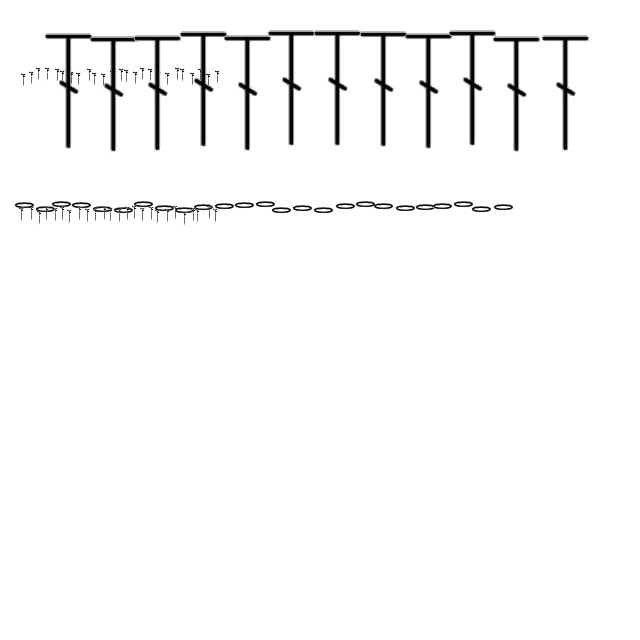chain: (50, 200, 74, 210), (112, 206, 136, 216), (132, 200, 156, 210), (254, 200, 278, 210), (270, 206, 294, 216), (312, 206, 336, 216), (334, 202, 358, 212), (354, 200, 378, 210), (372, 202, 396, 212), (394, 204, 418, 214), (452, 200, 476, 210), (154, 204, 176, 214), (174, 206, 196, 216), (214, 202, 236, 212), (292, 204, 314, 214), (432, 202, 454, 212), (34, 206, 58, 214), (70, 202, 94, 210), (192, 204, 216, 212), (414, 204, 438, 212), (470, 206, 494, 214), (492, 204, 516, 212), (14, 202, 36, 210), (92, 206, 114, 214), (234, 202, 256, 210)
double treble: (43, 29, 95, 153), (88, 32, 140, 156), (132, 31, 184, 155), (178, 27, 230, 151), (222, 31, 274, 155), (266, 26, 318, 150), (312, 26, 364, 150), (358, 27, 410, 151), (403, 29, 455, 153), (447, 26, 499, 150), (491, 32, 543, 156), (540, 31, 592, 155), (44, 206, 50, 222), (60, 206, 66, 222), (102, 206, 108, 222), (36, 67, 42, 81), (60, 70, 66, 84), (76, 72, 82, 86), (92, 72, 98, 86), (110, 70, 116, 84), (124, 69, 130, 83), (140, 67, 146, 81), (148, 68, 154, 82), (156, 71, 162, 85), (180, 68, 186, 82), (190, 72, 196, 86), (198, 68, 204, 82), (206, 73, 212, 87), (108, 208, 114, 222), (132, 206, 138, 220), (140, 208, 146, 222), (182, 212, 188, 226), (30, 206, 34, 222), (38, 210, 42, 226), (78, 206, 82, 222), (86, 208, 90, 224), (118, 208, 122, 224), (126, 206, 130, 222), (150, 206, 154, 222), (166, 208, 170, 224), (196, 208, 200, 224), (214, 208, 218, 224), (22, 73, 26, 87), (30, 71, 34, 85), (46, 67, 50, 81), (56, 68, 60, 82), (70, 71, 74, 85), (88, 68, 92, 82), (102, 73, 106, 87), (120, 68, 124, 82), (134, 71, 138, 85), (166, 72, 170, 86), (176, 67, 180, 81), (216, 70, 220, 84), (20, 208, 24, 222), (54, 208, 58, 222), (68, 210, 72, 224), (94, 208, 98, 222), (156, 210, 160, 224), (174, 206, 178, 220), (192, 208, 196, 222), (208, 206, 212, 220)
